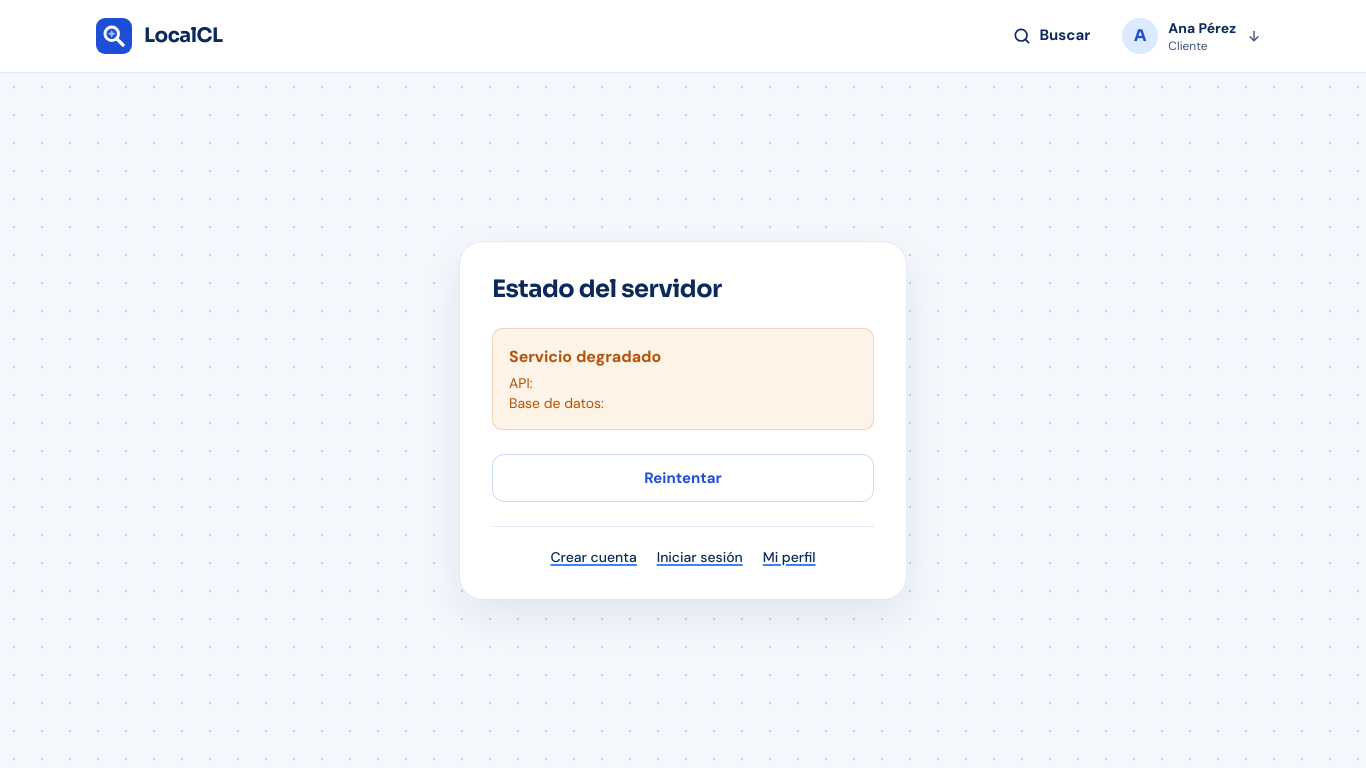
Test case: Encabezado › el menú se cierra con un clic fuera
The width and height of the screenshot is (1366, 768).
Click the button "A Ana Pérez Cliente".
click(1194, 36)  # box x1=1118 y1=14 x2=1270 y2=58
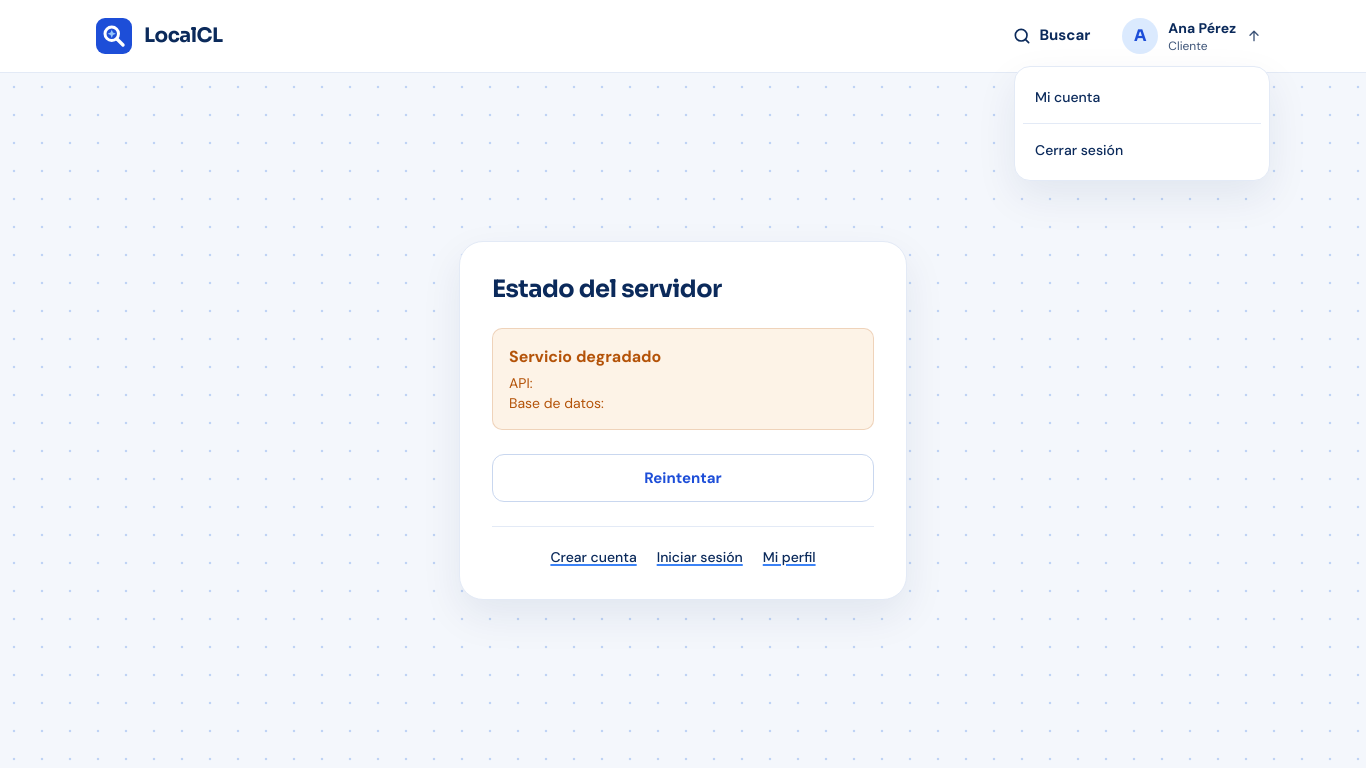
Press the mouse on the element that starts with "LocalCL" at point(683, 384), box x1=0 y1=0 x2=1365 y2=767
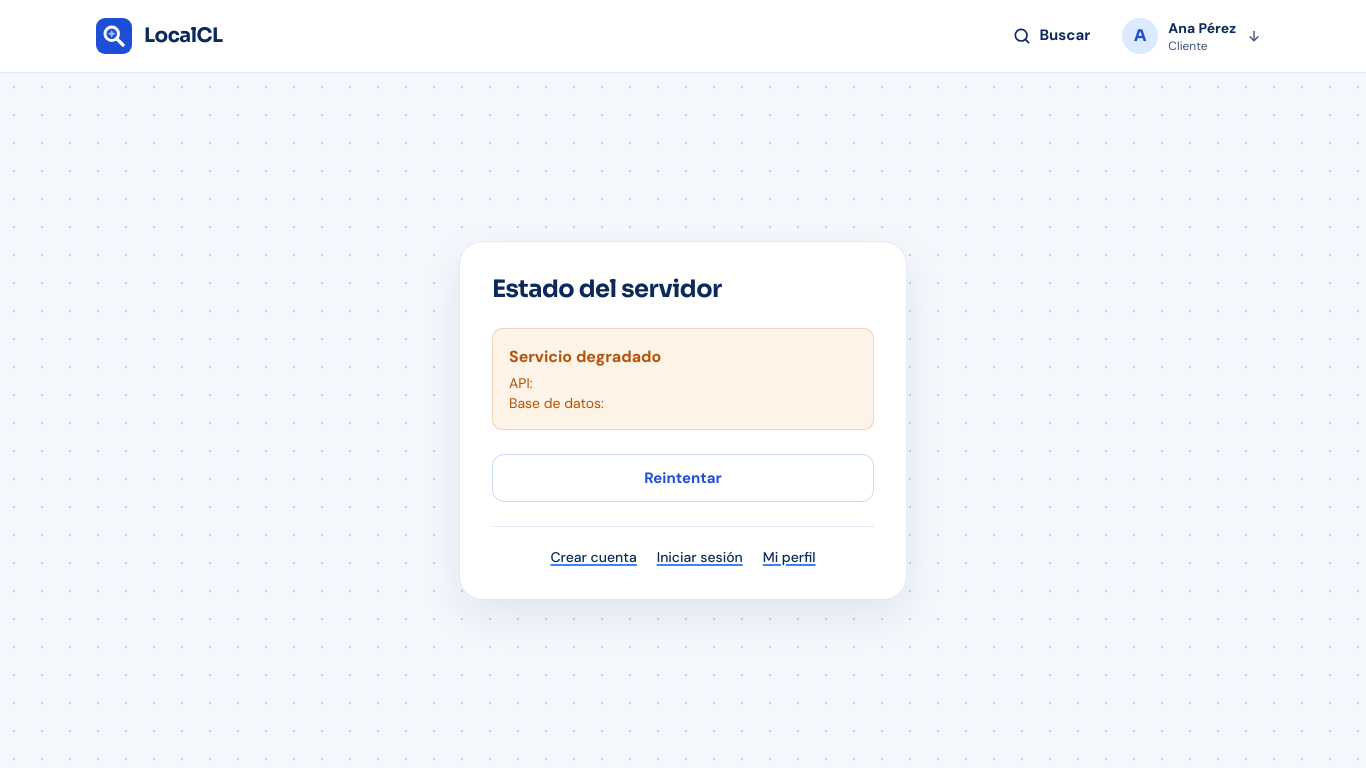
Now the button "A Ana Pérez Cliente" is collapsed, box x1=1118 y1=14 x2=1270 y2=58
